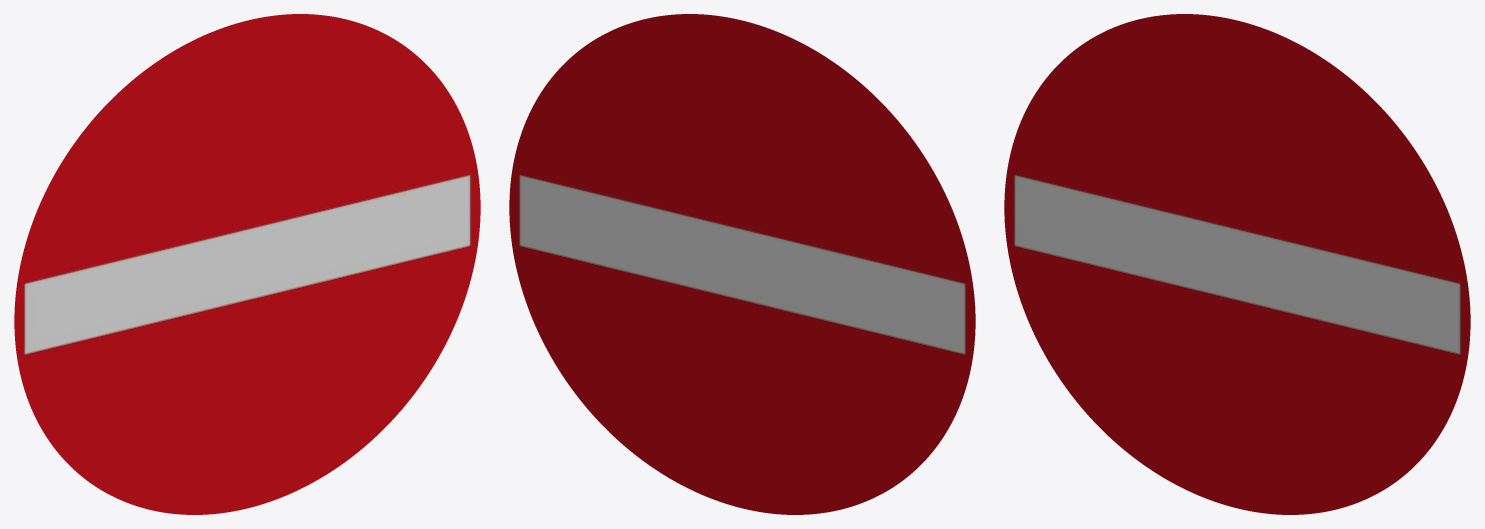
Rendered from giris-olmayan-yol.dae.
3 views of the same model, side by side, from view 1: azimuth 30°, elevation 25°; view 2: azimuth 150°, elevation 25°; view 3: azimuth 330°, elevation 25° (orthographic).
Visible parts, largest first — view 1: Circle; view 2: Circle; view 3: Circle.
Boxes of the visible parts, box(x1,y1,x2,y2) form: Circle: box(14, 14, 480, 514); Circle: box(509, 14, 975, 514); Circle: box(1004, 14, 1470, 514).
Bounding box in the file's own units: 0.24 × 1.05e-08 × 0.24.
